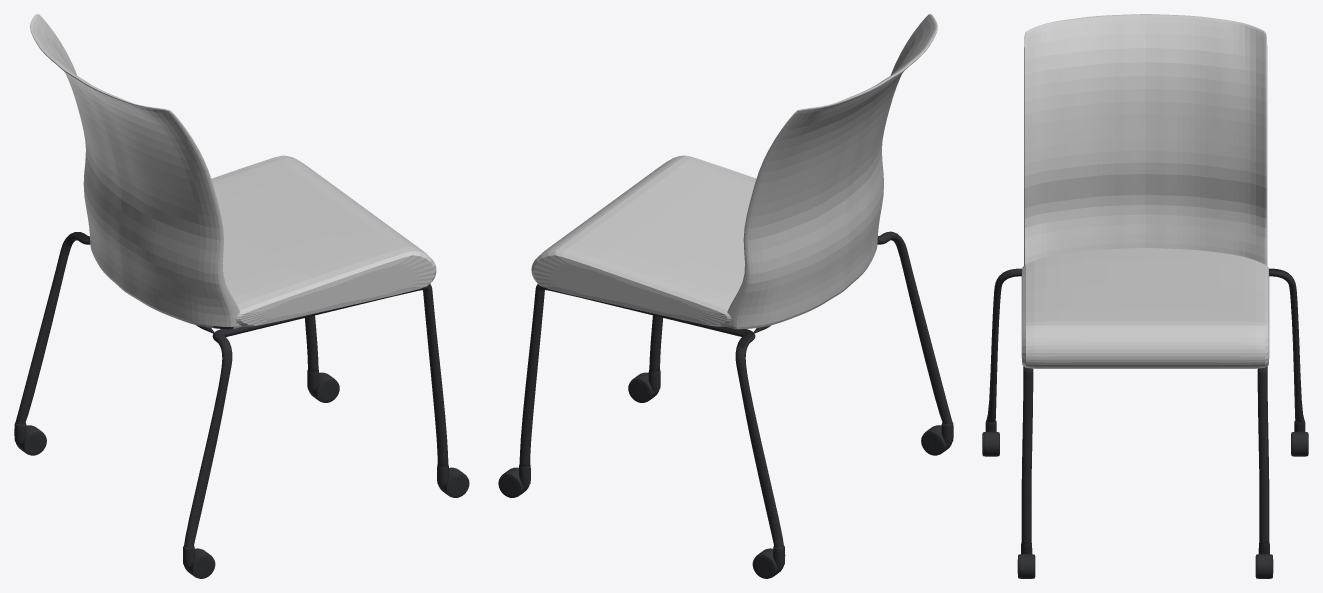
Rendered from Chair.fbx.
3 views of the same model, side by side, from view 1: azimuth 30°, elevation 25°; view 2: azimuth 150°, elevation 25°; view 3: azimuth 270°, elevation 25° (orthographic). The views are drawn at different scales.
Visible parts, largest first — view 1: wheels; view 2: wheels; view 3: wheels.
Part boxes in pixels (<box>): wheels: <box>14,14,469,578</box>; wheels: <box>498,14,953,578</box>; wheels: <box>982,14,1308,578</box>.
Size of the model in its own units: 48.03 by 62.31 by 44.
